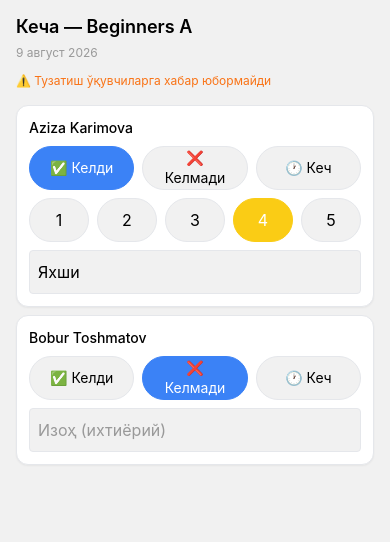
Scenario: Yesterday — correcting › hides the save button and clears the notice after a further edit
Expected: the heading "Кеча — Beginners A" is shown, x1=16 y1=16 x2=192 y2=37
Step 1. Click the button "🕐 Кеч" below "Aziza Karimova" → (308, 168), box x1=256 y1=146 x2=361 y2=190
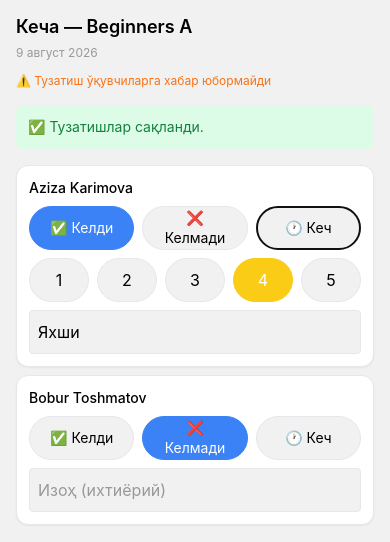
Result: the text "✅ Тузатишлар сақланди." is shown at x1=16 y1=105 x2=374 y2=149
Step 2. Click the button "❌ Келмади" below "Aziza Karimova" → (195, 228), box x1=142 y1=206 x2=248 y2=250
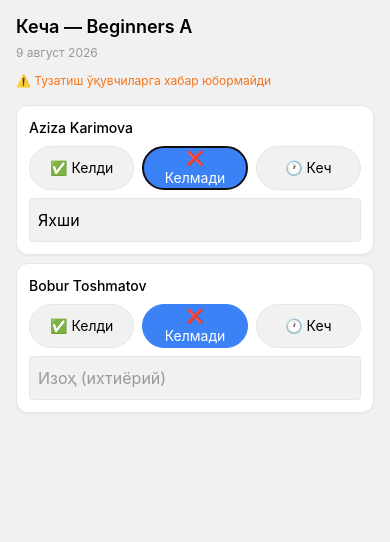
Result: the text "✅ Тузатишлар сақланди." is gone
